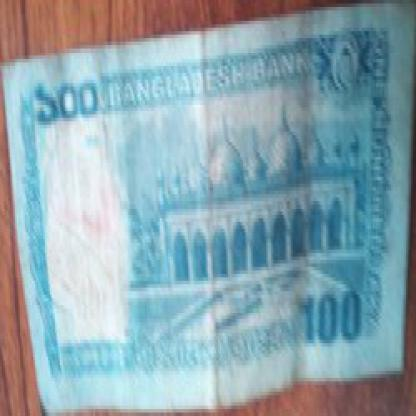one hundred taka: (301, 284, 363, 357), (29, 76, 102, 128)
